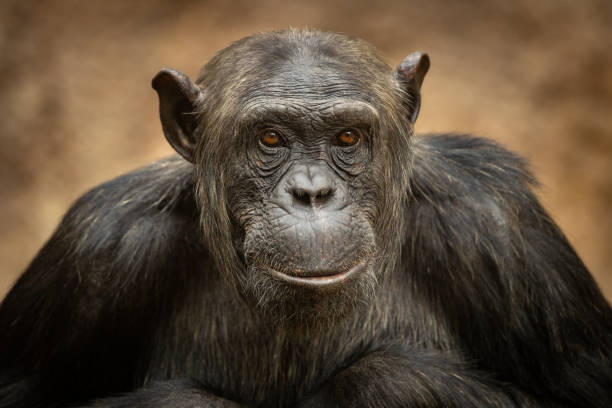chimpanzee: (101, 13, 468, 342)
